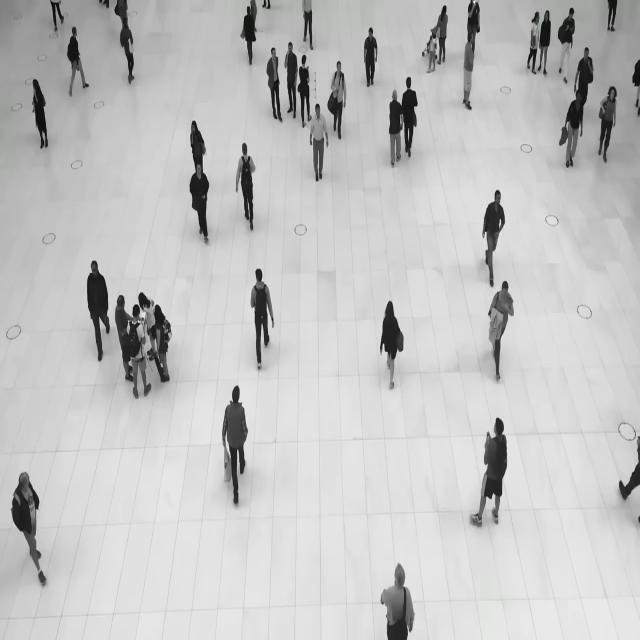Persona: (6, 464, 59, 601), (470, 410, 514, 540), (218, 380, 258, 515), (472, 172, 516, 286), (479, 274, 522, 389), (374, 546, 421, 640), (82, 251, 115, 378), (246, 252, 279, 378), (377, 291, 409, 401), (232, 136, 264, 238), (186, 151, 214, 261), (125, 302, 154, 402), (302, 99, 332, 189), (24, 70, 52, 165), (327, 55, 353, 145), (64, 18, 91, 104), (559, 86, 583, 171), (153, 301, 177, 386), (596, 82, 618, 166), (401, 73, 421, 164), (265, 39, 284, 132), (386, 88, 404, 172), (556, 6, 575, 85), (119, 15, 139, 90), (462, 30, 476, 116), (240, 6, 259, 69), (284, 39, 298, 122), (298, 47, 312, 129), (363, 24, 379, 90), (188, 114, 208, 164), (525, 12, 540, 78), (438, 3, 450, 74), (540, 8, 552, 77), (427, 26, 438, 78)
